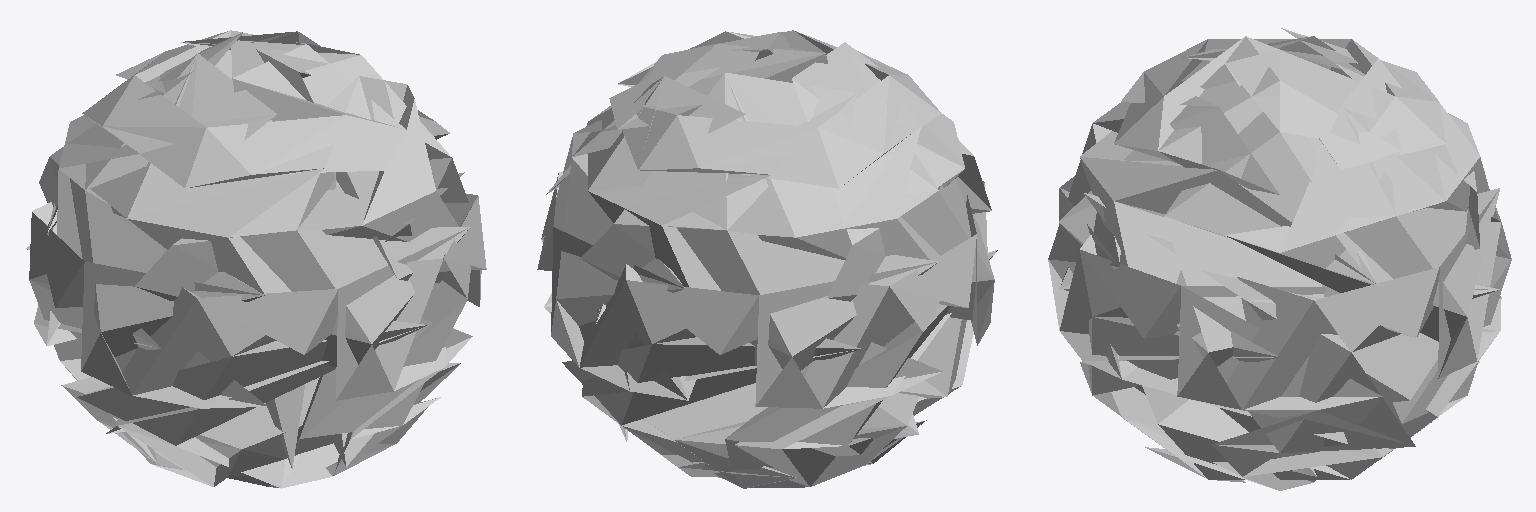
File: uv_ico.obj
3 views of the same model, side by side, from view 1: azimuth 30°, elevation 25°; view 2: azimuth 150°, elevation 25°; view 3: azimuth 270°, elevation 25° (orthographic).
Size of the model in its own units: 12.65 by 12.45 by 12.65.